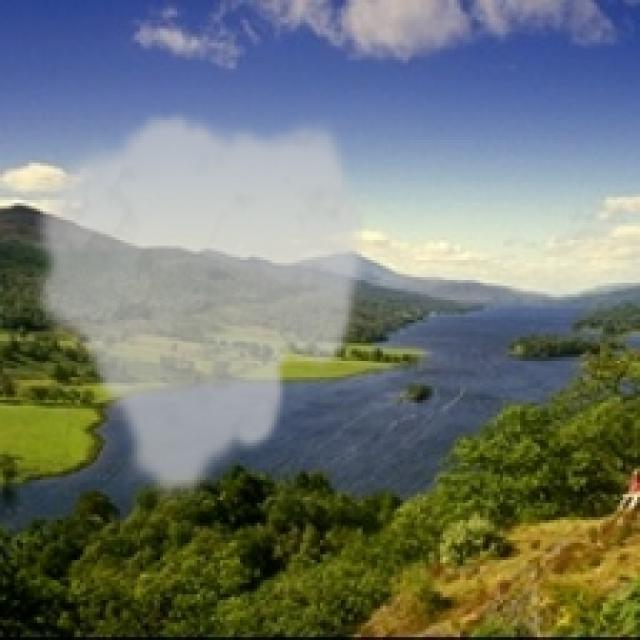Smoke: (26, 109, 368, 508)
